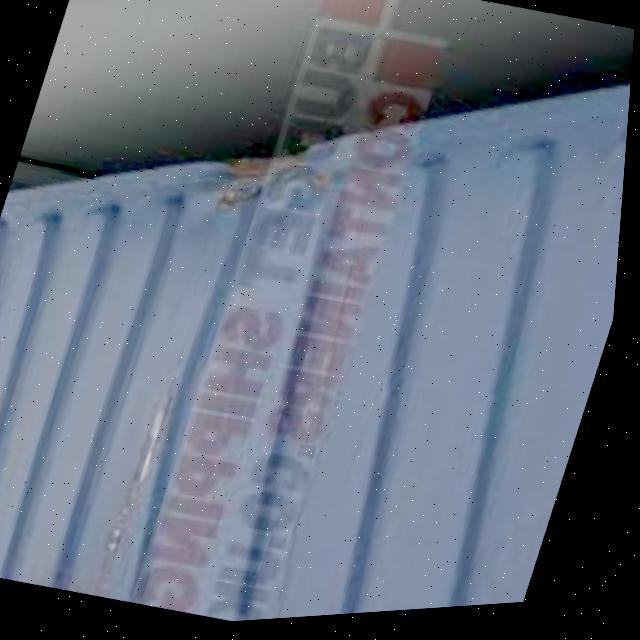dent: (140, 83, 392, 273)
